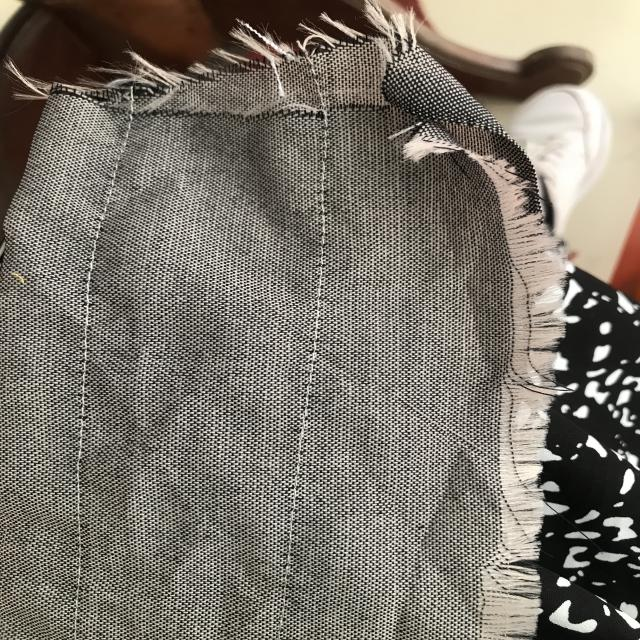good: (62, 456, 97, 610), (74, 314, 98, 445), (307, 210, 336, 314)
